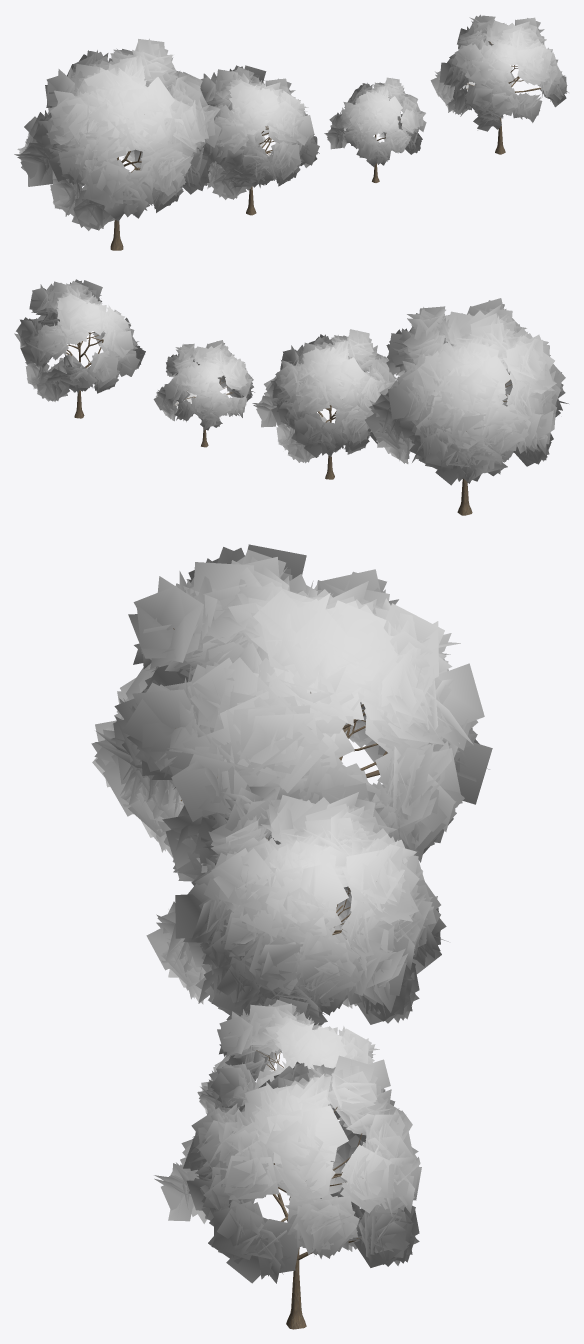
Rendered from Trees_3A.fbx.
The picture shows the model from 3 angles, top to bottom: view 1: azimuth 30°, elevation 25°; view 2: azimuth 150°, elevation 25°; view 3: azimuth 270°, elevation 25°; orthographic projection. The views are drawn at different scales.
Visible parts, largest first — view 1: Tree_3A4, Tree_3A3, Tree_3A1, Tree_3A2; view 2: Tree_3A4, Tree_3A3, Tree_3A1, Tree_3A2; view 3: Tree_3A4, Tree_3A3, Tree_3A1, Tree_3A2.
Boxes of the visible parts, x1,y1,x2,y2 form: Tree_3A4: [14, 38, 221, 250]; Tree_3A3: [200, 65, 319, 215]; Tree_3A1: [430, 14, 568, 154]; Tree_3A2: [324, 77, 426, 182]; Tree_3A4: [365, 298, 568, 515]; Tree_3A3: [252, 329, 396, 479]; Tree_3A1: [14, 279, 145, 418]; Tree_3A2: [153, 340, 254, 447]; Tree_3A4: [91, 544, 492, 881]; Tree_3A3: [146, 783, 448, 1025]; Tree_3A1: [154, 1055, 421, 1329]; Tree_3A2: [197, 997, 395, 1200].
Size of the model in its own units: 5588 by 1961 by 1814.
